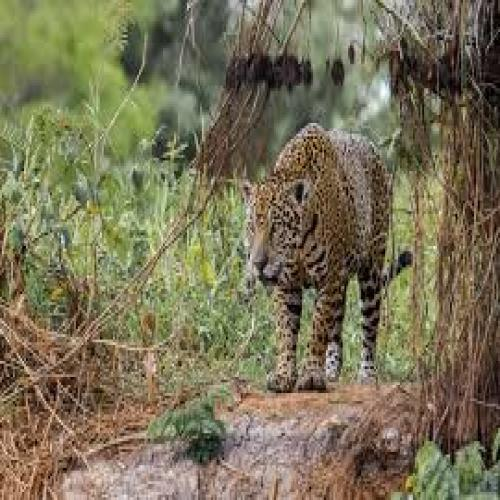jaguar_not-endangered: (243, 123, 413, 390)
